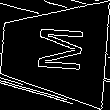M_W: (25, 27, 82, 77)
